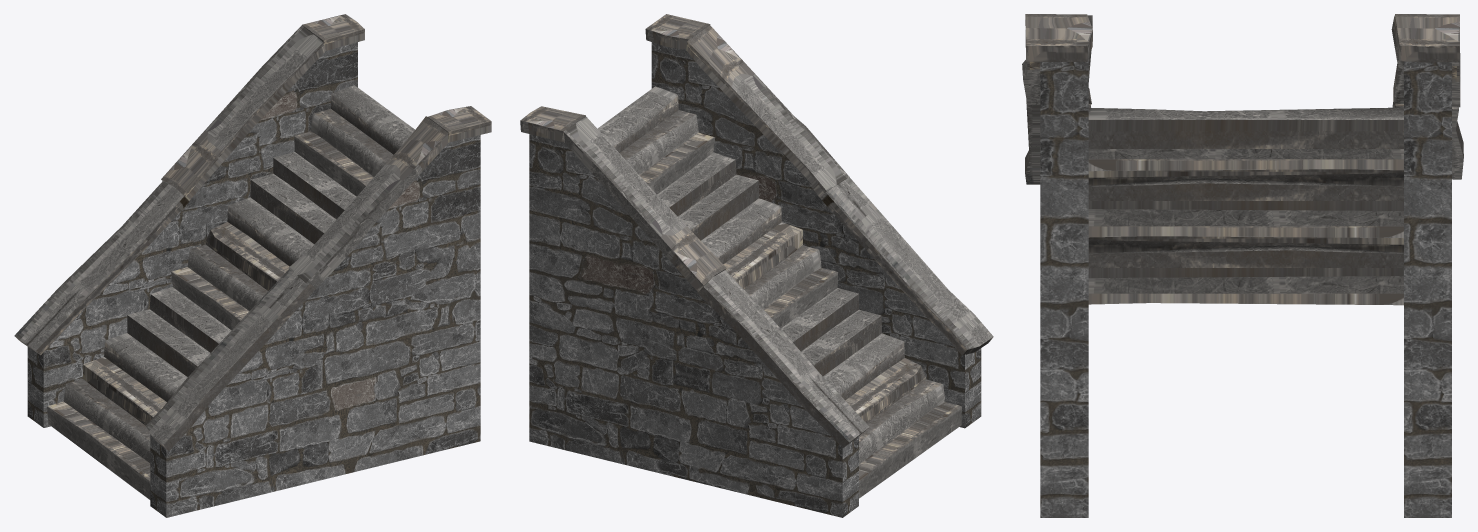
Rendered from MC_Castle_Stairs_4m_A.fbx.
3 views of the same model, side by side, from view 1: azimuth 30°, elevation 25°; view 2: azimuth 150°, elevation 25°; view 3: azimuth 270°, elevation 25° (orthographic). The views are drawn at different scales.
Visible parts, largest first — view 1: MC_Castle_Stairs_4m_A_LOD0; view 2: MC_Castle_Stairs_4m_A_LOD0; view 3: MC_Castle_Stairs_4m_A_LOD0.
Boxes of the visible parts, x1,y1,x2,y2 form: MC_Castle_Stairs_4m_A_LOD0: (14,14,491,517); MC_Castle_Stairs_4m_A_LOD0: (520,14,993,517); MC_Castle_Stairs_4m_A_LOD0: (1022,14,1463,517).
Size of what is drawn, in the model's own units: 401 by 373 by 313.
